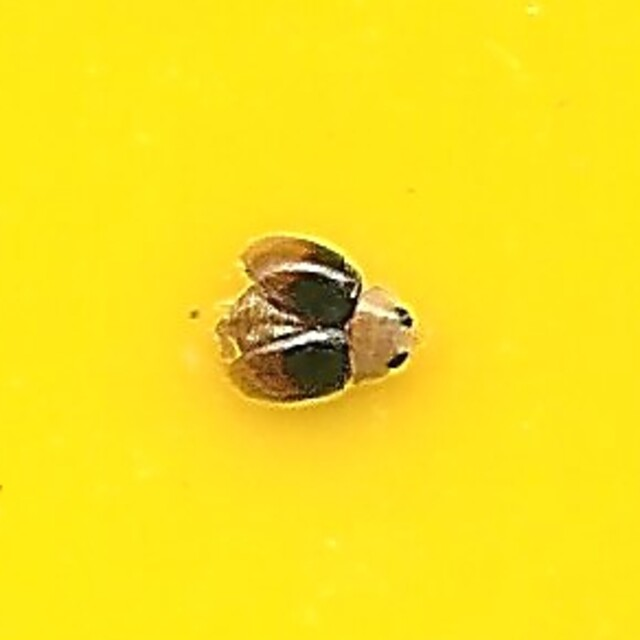Coleoptera: (219, 234, 421, 406)
